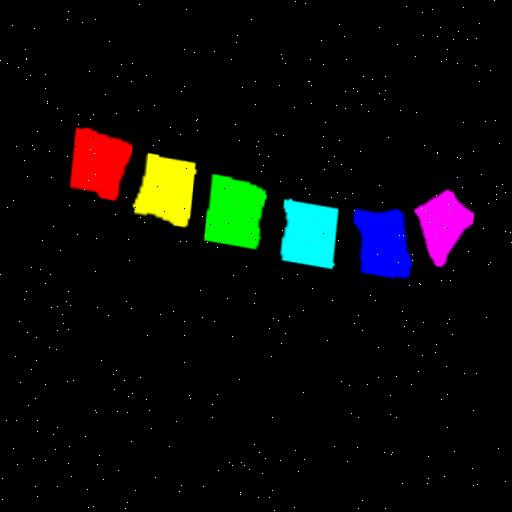L1: (71, 125, 134, 197)
L2: (136, 151, 197, 222)
L3: (206, 168, 267, 243)
L4: (283, 192, 340, 261)
L5: (355, 198, 413, 266)
S1: (416, 179, 475, 256)
